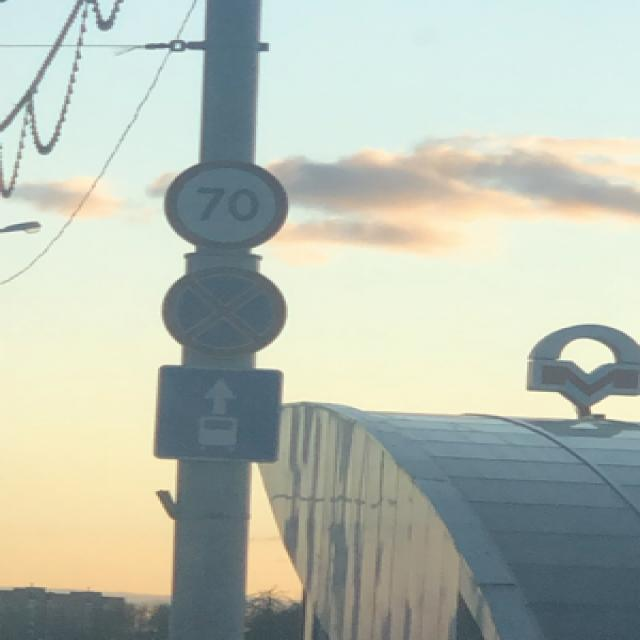speedlimit: (162, 158, 288, 248)
